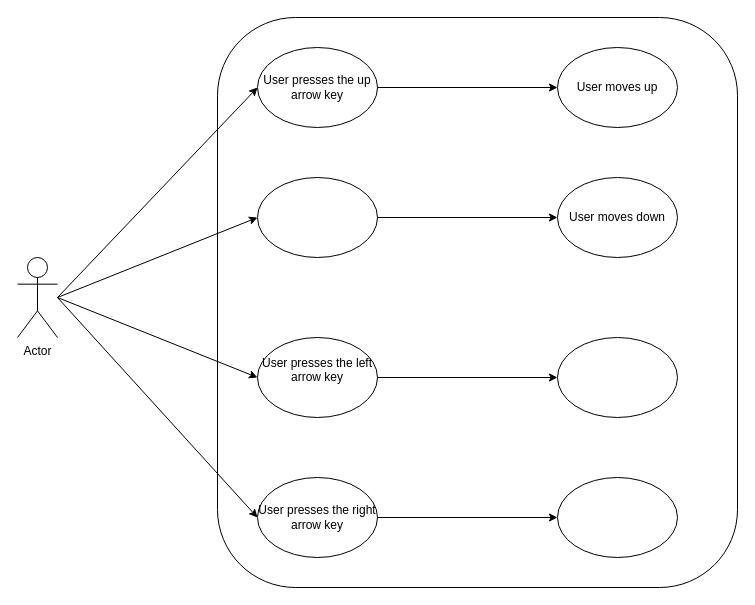
This 755x605 diagram has some shape labels left out. Each missing label, with the box of its shape:
User moves left: (556, 336, 678, 418)
User moves right: (556, 476, 678, 558)
User presses the down arrow key: (256, 176, 378, 258)
